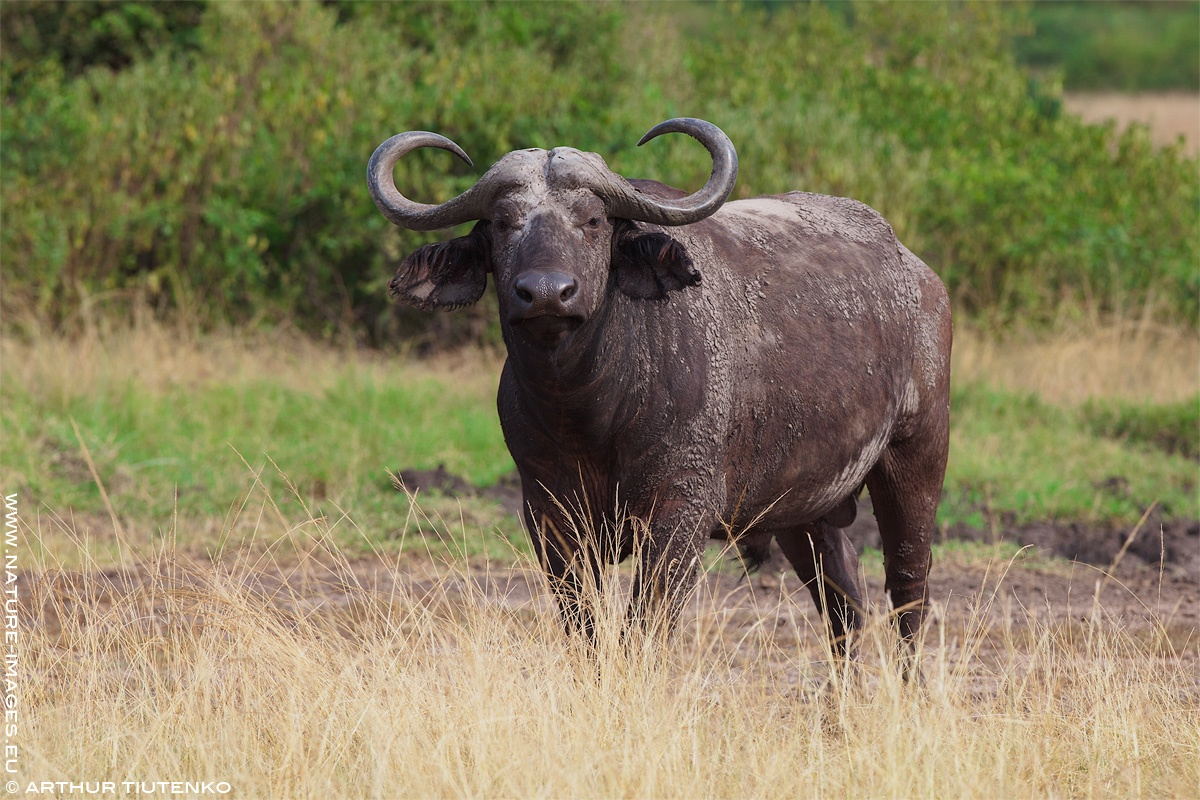buffalo: (367, 118, 950, 710)
